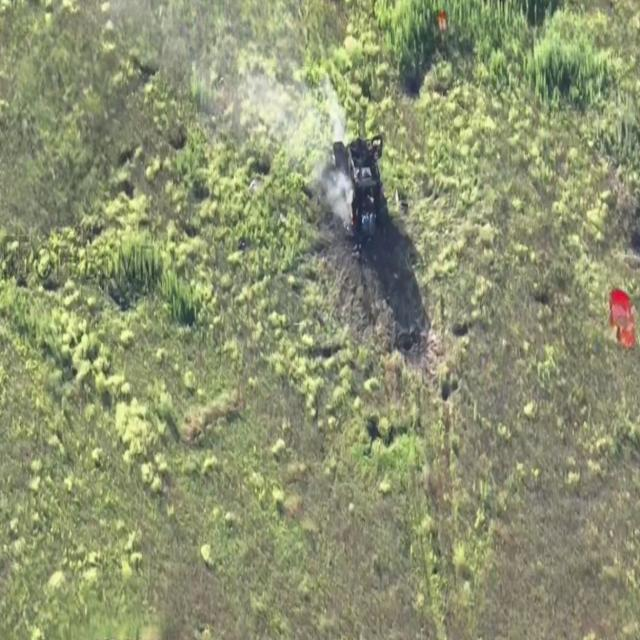Destroyed: (332, 132, 385, 243)
